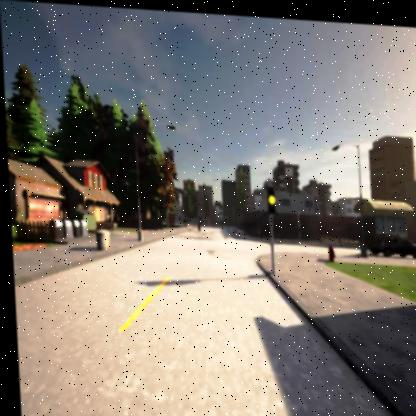vehicle: (363, 228, 416, 256)
